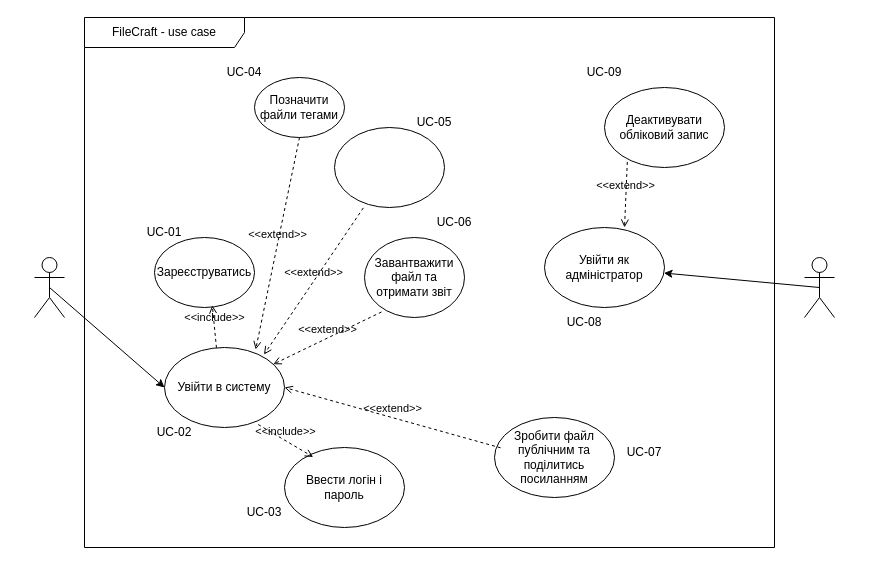
This 876x565 diagram has some shape labels left out. Each missing label, with the centre of its shape:
"Адміністратор" belongs at point (819, 287).
"Користувач" belongs at point (49, 287).
"Пошук файлів за ключовими тегами" belongs at point (389, 167).
